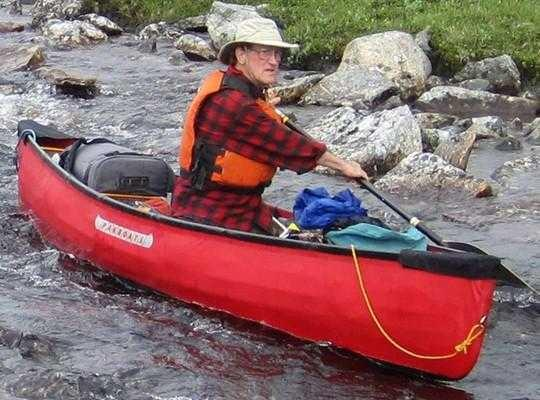kayak: (13, 120, 509, 382)
